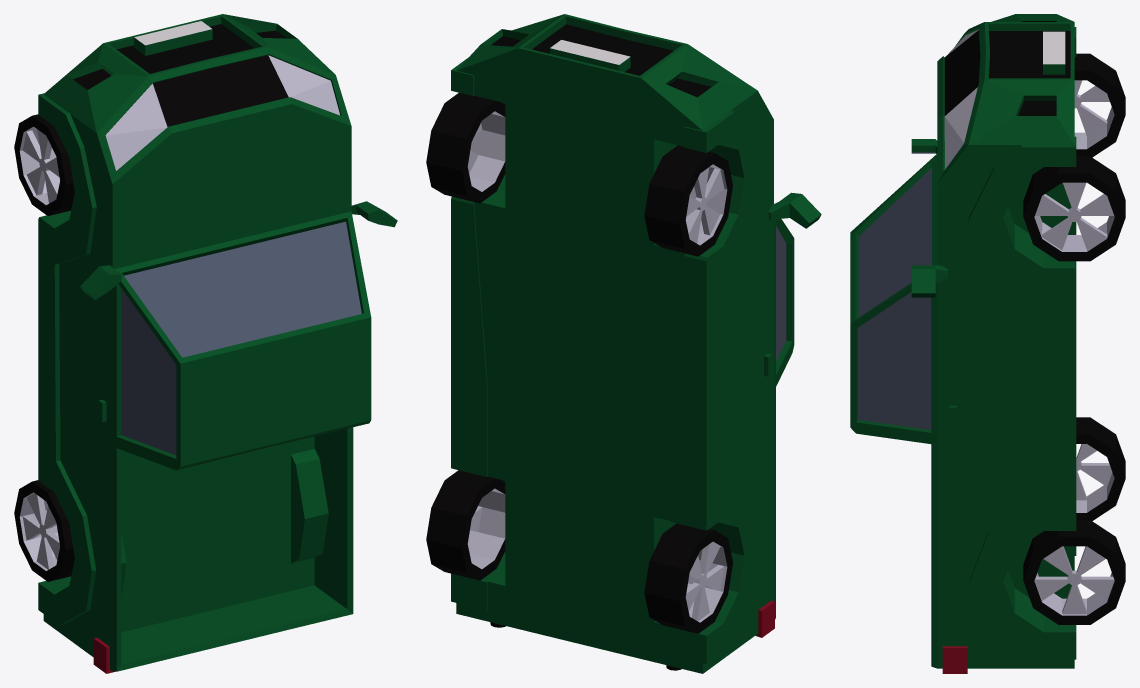
File: Pickup.glb
The picture shows the model from 3 angles, left to right: view 1: azimuth 30°, elevation 25°; view 2: azimuth 150°, elevation 25°; view 3: azimuth 270°, elevation 25°; orthographic projection. The views are drawn at different scales.
Parts seen in each view (by area): view 1: Mesh_0; view 2: Mesh_0; view 3: Mesh_0.
Boxes of the visible parts, box(x1,y1,x2,y2) form: Mesh_0: box(14, 14, 397, 673); Mesh_0: box(426, 14, 821, 673); Mesh_0: box(850, 14, 1125, 673).
Bounding box in the file's own units: 2.81 × 5.04 × 2.21.
